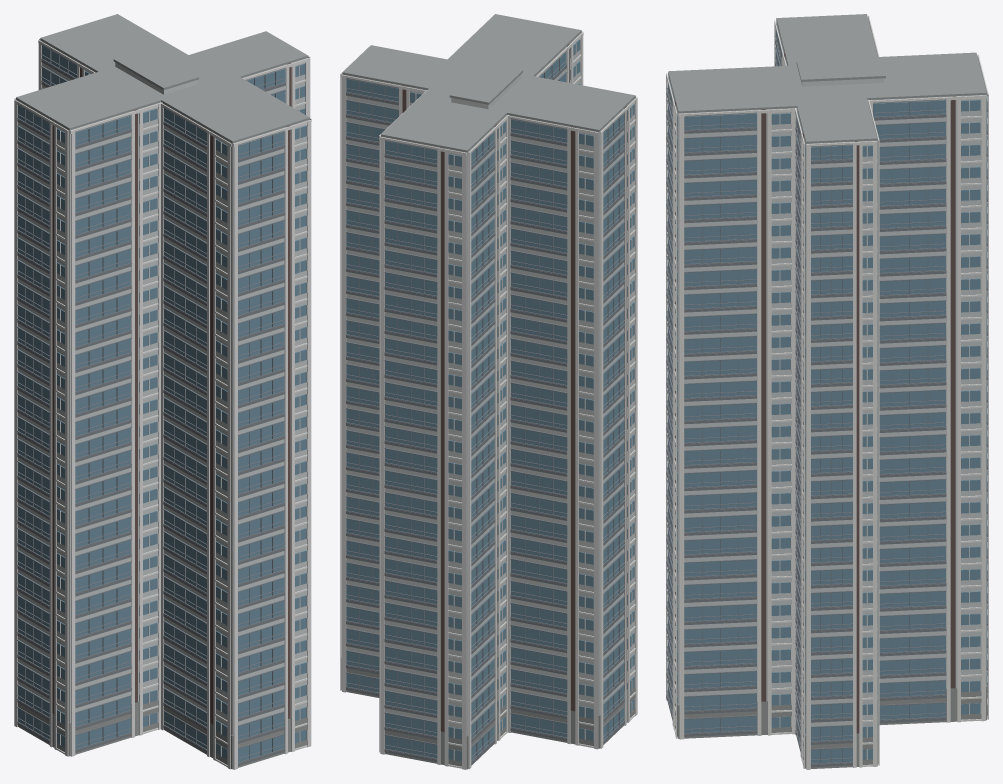
File: bespoke-acro-riverview-105.glb
3 views of the same model, side by side, from view 1: azimuth 30°, elevation 25°; view 2: azimuth 150°, elevation 25°; view 3: azimuth 270°, elevation 25° (orthographic).
Parts seen in each view (by area): view 1: ARV105_editable_ARV105_blue_grey_horizontal_glazing, ARV105_editable_ARV105_dark_horizontal_spandrels_and_mullion, ARV105_editable_ARV105_broad_white_facade_frames, ARV105_editable_ARV105_light_grey_solid_wall, ARV105_editable_ARV105_modest_grey_flat_roof_caps, ARV105_editable_ARV105_recessed_brown_vertical_seams, ARV105_editable_ARV105_muted_ground_wall; view 2: ARV105_editable_ARV105_blue_grey_horizontal_glazing, ARV105_editable_ARV105_dark_horizontal_spandrels_and_mullion, ARV105_editable_ARV105_broad_white_facade_frames, ARV105_editable_ARV105_light_grey_solid_wall, ARV105_editable_ARV105_modest_grey_flat_roof_caps, ARV105_editable_ARV105_recessed_brown_vertical_seams, ARV105_editable_ARV105_muted_ground_wall; view 3: ARV105_editable_ARV105_blue_grey_horizontal_glazing, ARV105_editable_ARV105_dark_horizontal_spandrels_and_mullion, ARV105_editable_ARV105_broad_white_facade_frames, ARV105_editable_ARV105_light_grey_solid_wall, ARV105_editable_ARV105_modest_grey_flat_roof_caps, ARV105_editable_ARV105_recessed_brown_vertical_seams, ARV105_editable_ARV105_muted_ground_wall.
Boxes of the visible parts, x1,y1,x2,y2 form: ARV105_editable_ARV105_blue_grey_horizontal_glazing: (17,45,306,762); ARV105_editable_ARV105_dark_horizontal_spandrels_and_mullion: (17,44,286,766); ARV105_editable_ARV105_broad_white_facade_frames: (14,38,311,769); ARV105_editable_ARV105_light_grey_solid_wall: (16,40,309,735); ARV105_editable_ARV105_modest_grey_flat_roof_caps: (16,14,309,143); ARV105_editable_ARV105_recessed_brown_vertical_seams: (52,63,291,724); ARV105_editable_ARV105_muted_ground_wall: (17,696,306,769); ARV105_editable_ARV105_blue_grey_horizontal_glazing: (346,39,634,761); ARV105_editable_ARV105_dark_horizontal_spandrels_and_mullion: (346,50,625,764); ARV105_editable_ARV105_broad_white_facade_frames: (340,15,637,769); ARV105_editable_ARV105_light_grey_solid_wall: (342,32,635,735); ARV105_editable_ARV105_modest_grey_flat_roof_caps: (342,14,635,152); ARV105_editable_ARV105_recessed_brown_vertical_seams: (402,44,626,731); ARV105_editable_ARV105_muted_ground_wall: (341,658,634,769); ARV105_editable_ARV105_blue_grey_horizontal_glazing: (667,25,987,763); ARV105_editable_ARV105_dark_horizontal_spandrels_and_mullion: (666,27,987,767); ARV105_editable_ARV105_broad_white_facade_frames: (666,15,988,769); ARV105_editable_ARV105_light_grey_solid_wall: (668,20,986,734); ARV105_editable_ARV105_modest_grey_flat_roof_caps: (668,14,986,143); ARV105_editable_ARV105_recessed_brown_vertical_seams: (674,27,980,733); ARV105_editable_ARV105_muted_ground_wall: (667,680,987,768).
Size of the model in its own units: 37.19 by 84.85 by 39.13.
